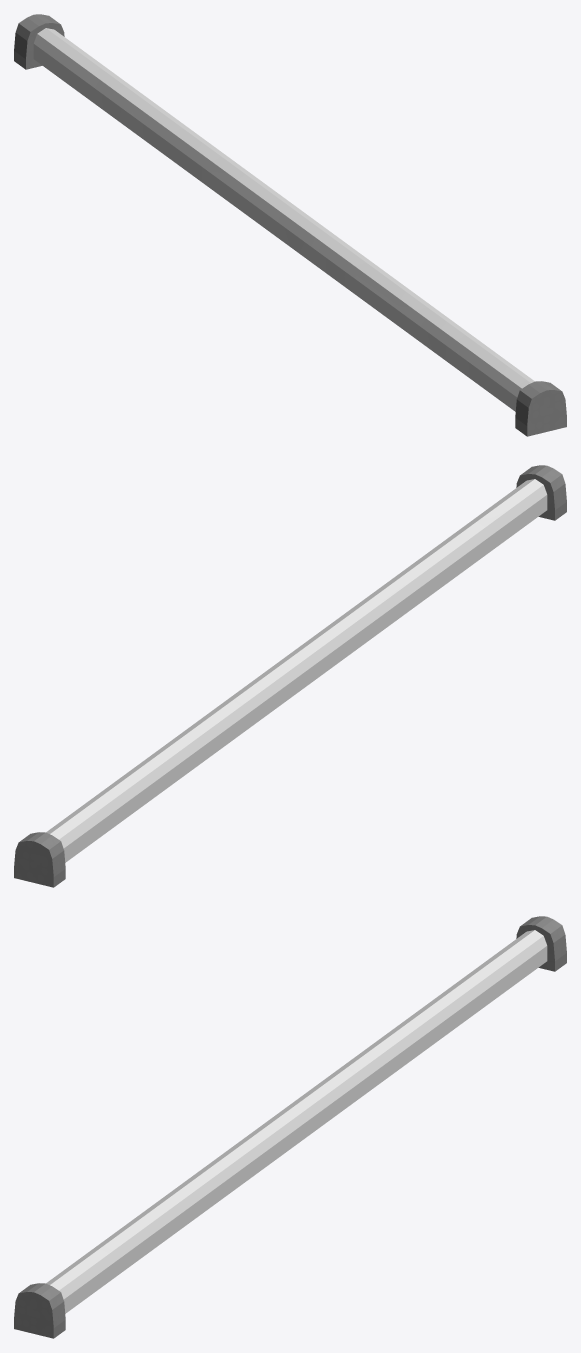
The model's file is Light_Pipe.fbx.
3 views of the same model, one above another, from view 1: azimuth 30°, elevation 25°; view 2: azimuth 150°, elevation 25°; view 3: azimuth 330°, elevation 25° (orthographic).
Parts seen in each view (by area): view 1: Light_Pipe; view 2: Light_Pipe; view 3: Light_Pipe.
Boxes of the visible parts, <box> form: Light_Pipe: <box>14,14,566,436</box>; Light_Pipe: <box>14,465,566,887</box>; Light_Pipe: <box>14,916,566,1338</box>.
Size of the model in its own units: 0.0571 by 0.0571 by 1.28.
